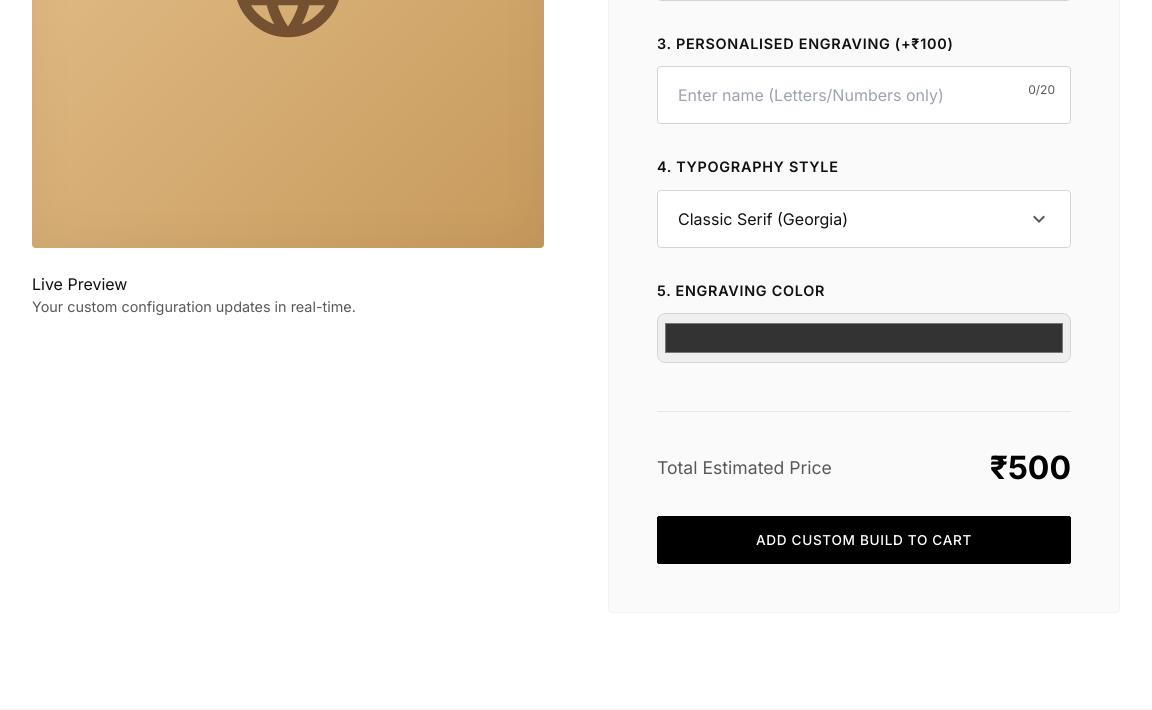
Test: BuildPage Security & Functional Tests › FUNC-003: Submitting shows success toast
(page scrolled)
Click the button "Add Custom Build to Cart".
click(864, 540)  # box x1=657 y1=516 x2=1071 y2=564
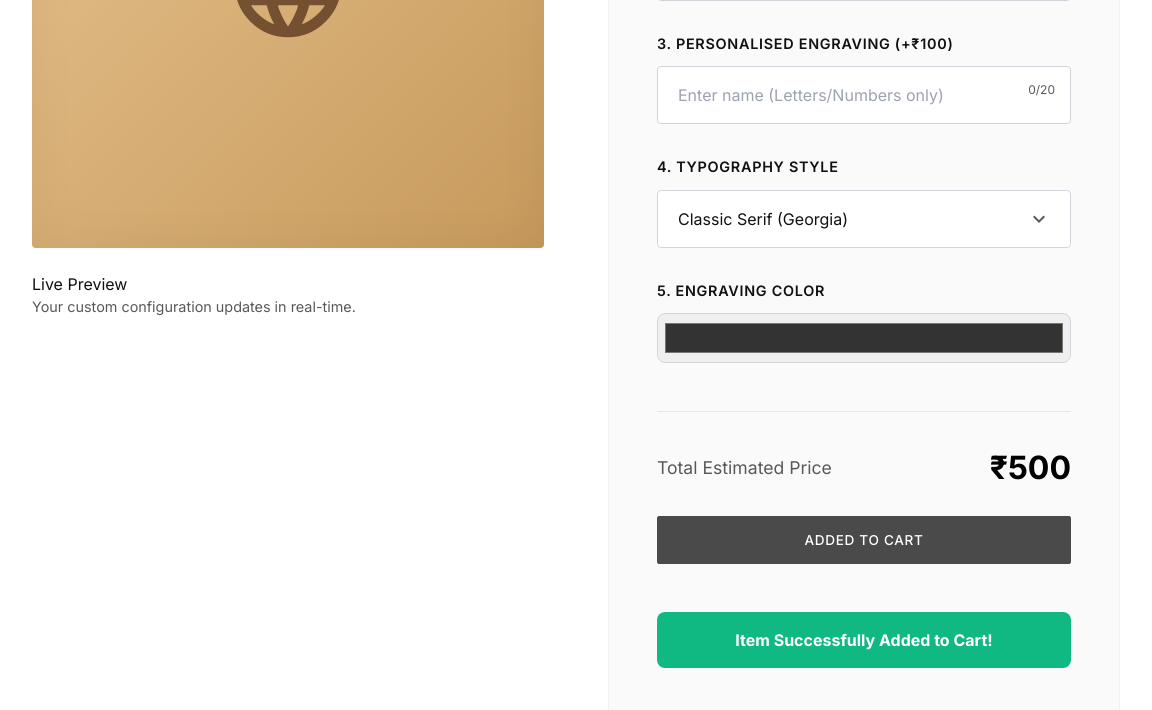
Now the text "Item Successfully Added to Cart!" is shown, box x1=657 y1=612 x2=1071 y2=668
